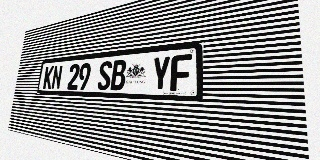2: (67, 64, 80, 90)
9: (77, 63, 91, 90)
B: (110, 59, 127, 90)
F: (170, 54, 192, 92)
K: (43, 66, 54, 89)
N: (51, 65, 63, 89)
S: (97, 61, 112, 90)
Y: (151, 56, 171, 91)
